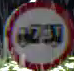Heavy Vehicles: (3, 0, 73, 70)
